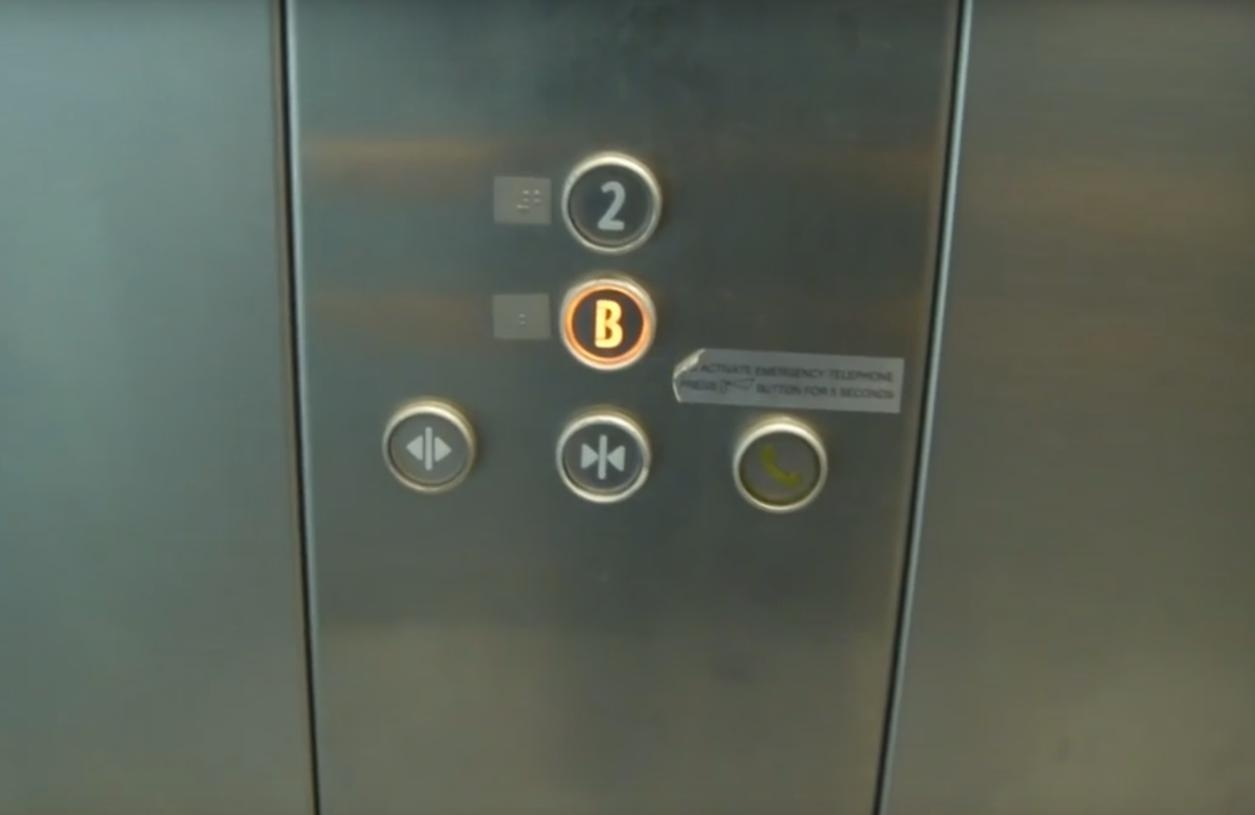2: (555, 149, 668, 261)
B: (552, 268, 660, 375)
call: (726, 412, 830, 519)
close: (551, 403, 655, 510)
open: (374, 393, 482, 500)
